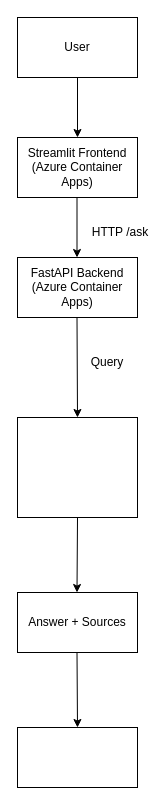
Some shapes in this 168 by 805 pixel diagram are drawn without their labels. Each missing label, with the box of its shape:
Evaluation + Logging: (16, 726, 138, 788)
RAG Pipeline - Retriever (FAISS) - Prompt Assembly - OpenAI API: (16, 416, 138, 518)
